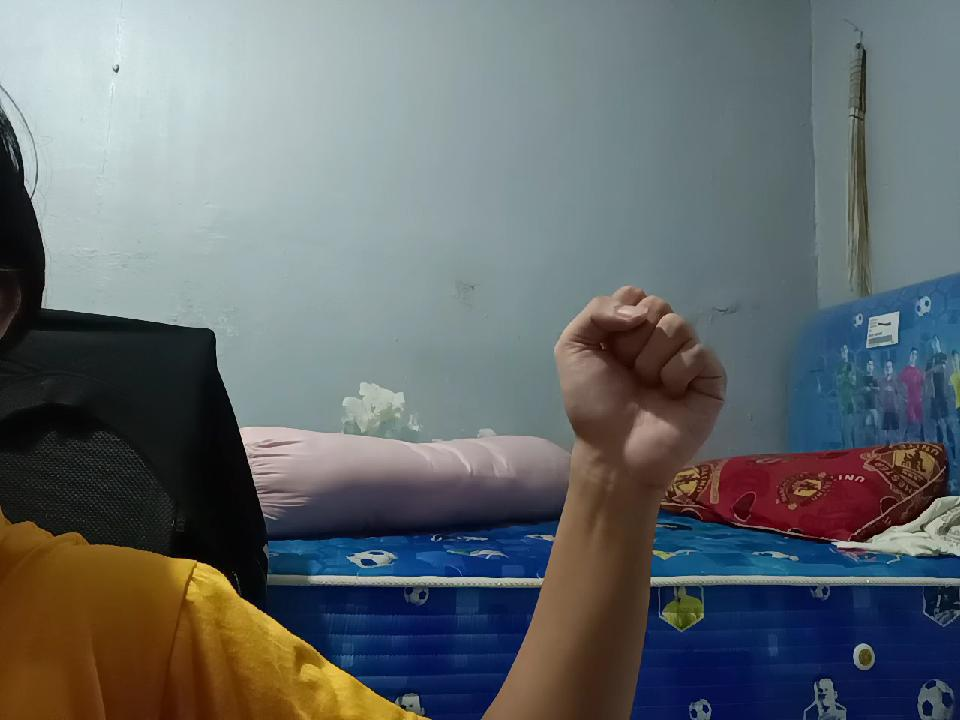rock: (556, 267, 714, 472)
